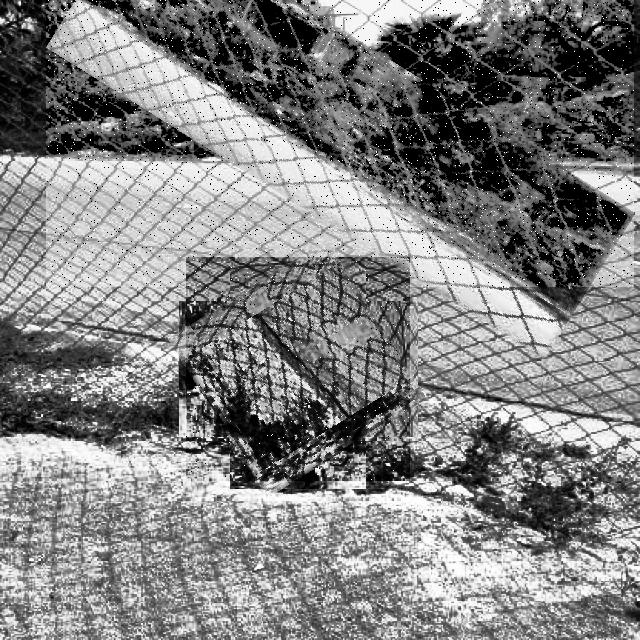anomaly-fence: (186, 257, 410, 481)
fences: (46, 0, 634, 287)
